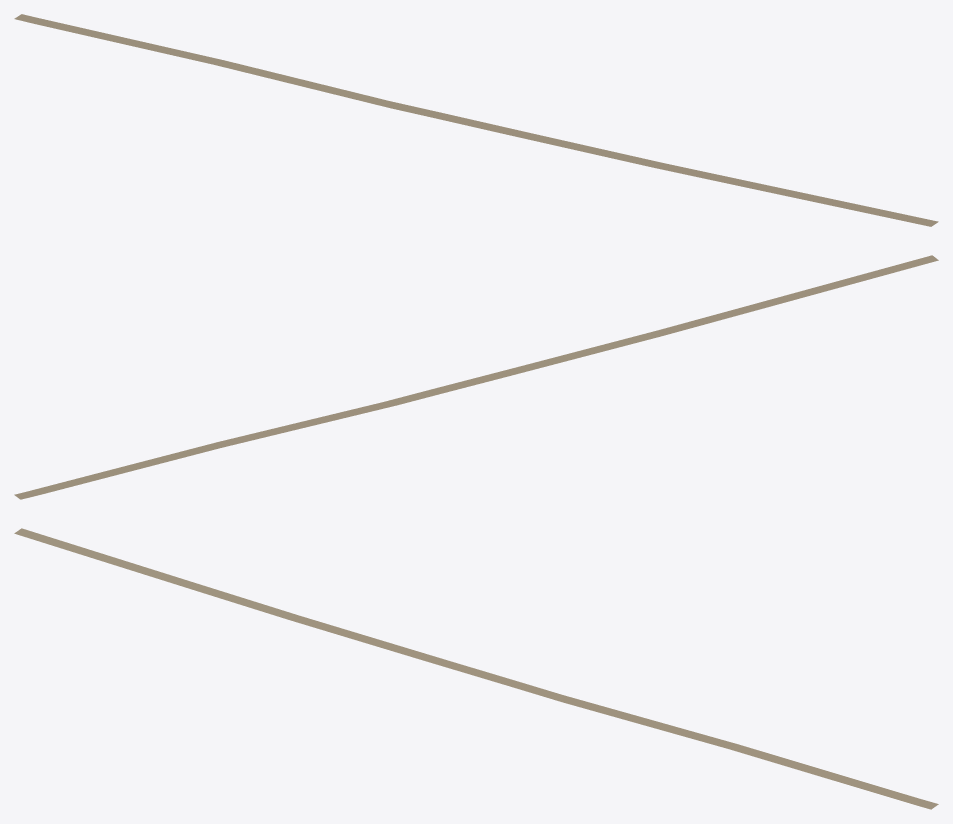
File: farm_4_17_track.glb
3 views of the same model, one above another, from view 1: azimuth 90°, elevation 25°; view 2: azimuth 150°, elevation 25°; view 3: azimuth 270°, elevation 25° (orthographic). The views are drawn at different scales.
Visible parts, largest first — view 1: geometry_0; view 2: geometry_0; view 3: geometry_0.
Part boxes in pixels (x1,y1,x2,y2): geometry_0: (14,14,938,226); geometry_0: (14,255,938,499); geometry_0: (14,528,938,809).
Size of the model in its own units: 131 by 8.47 by 208.
